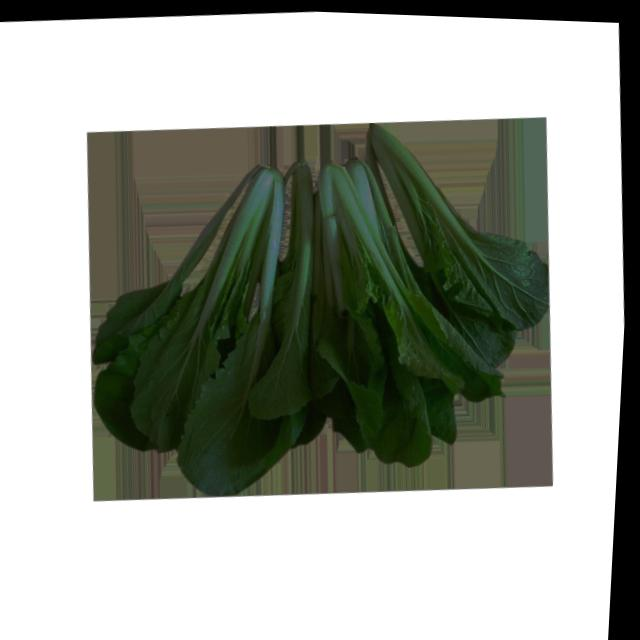chinese_cabbage: (56, 82, 565, 544)
